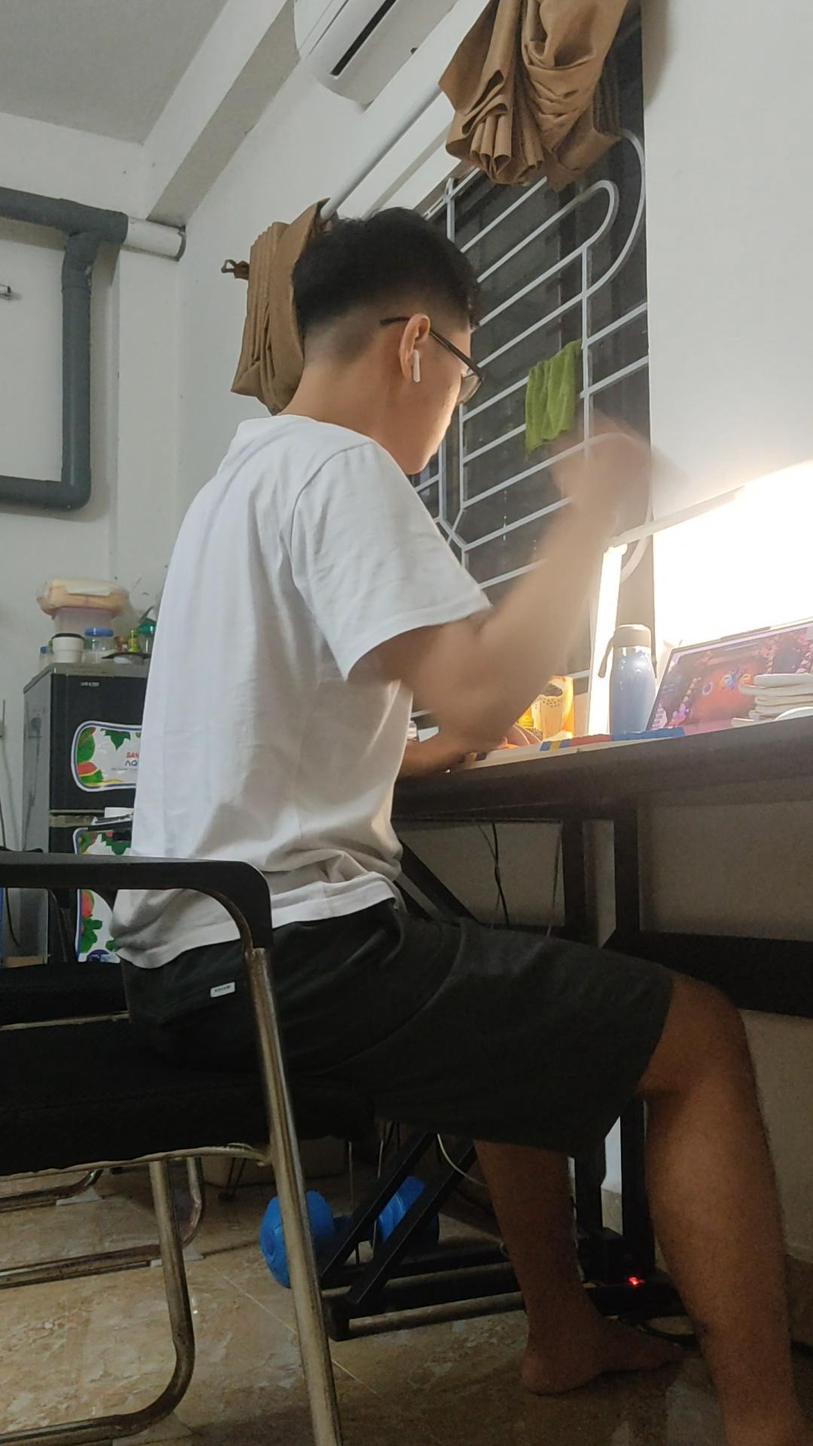GoodPosture: (133, 210, 812, 1445)
